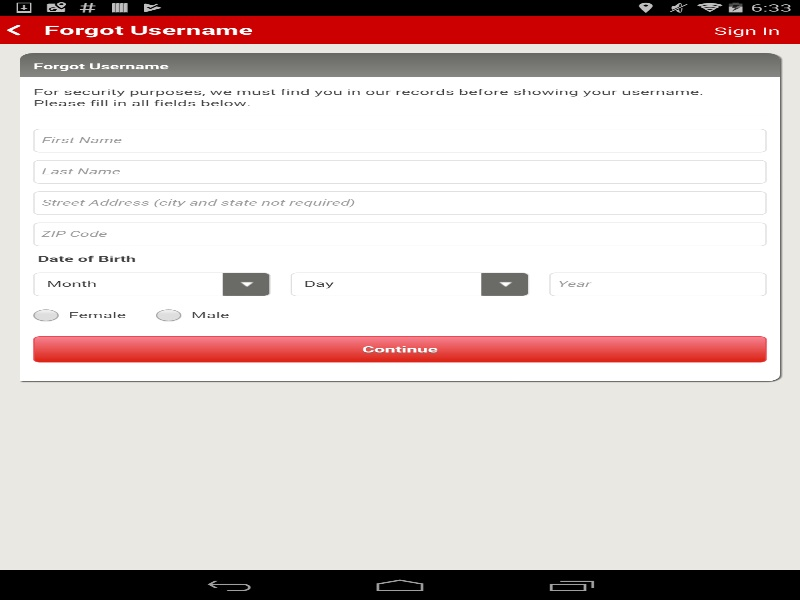Button: (33, 336, 766, 362), (290, 272, 530, 296), (33, 272, 270, 296)
Input: (33, 128, 766, 152), (33, 191, 766, 215), (33, 222, 766, 246), (33, 160, 766, 183), (549, 272, 768, 296)
